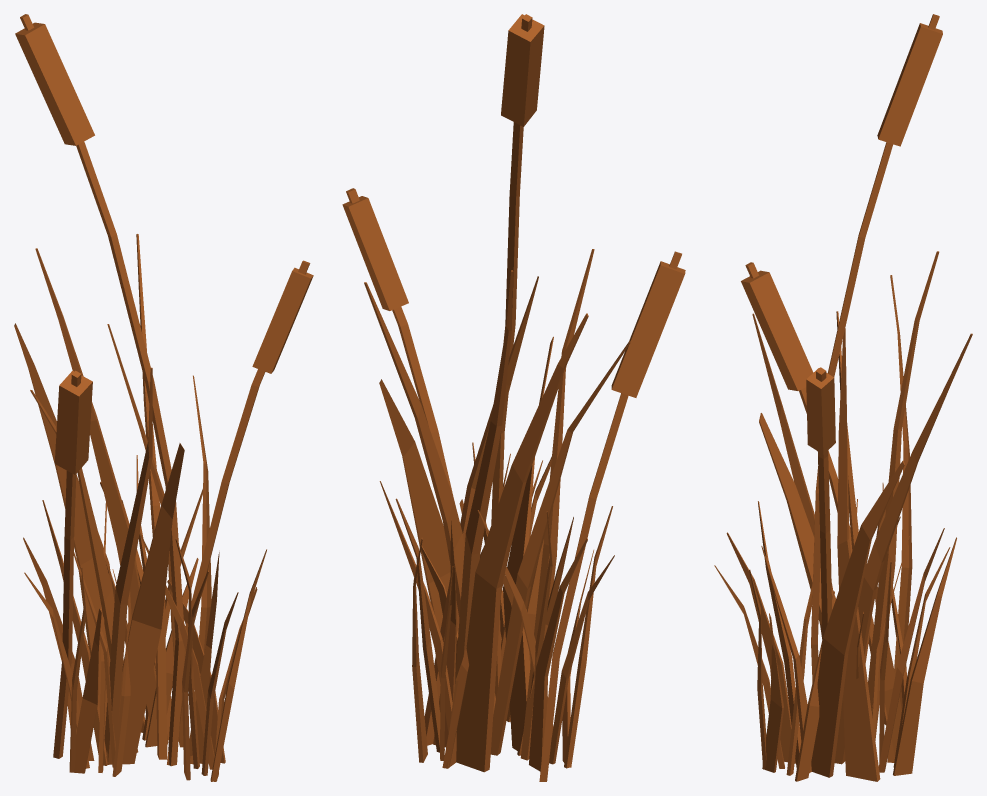
Rendered from grass1.fbx.
The picture shows the model from 3 angles, left to right: view 1: azimuth 30°, elevation 25°; view 2: azimuth 150°, elevation 25°; view 3: azimuth 270°, elevation 25°; orthographic projection. The views are drawn at different scales.
Parts seen in each view (by area): view 1: Grass3; view 2: Grass3; view 3: Grass3.
Boxes of the visible parts, <box> form: Grass3: <box>14,14,313,781</box>; Grass3: <box>342,14,685,781</box>; Grass3: <box>714,14,972,781</box>.
Bounding box in the file's own units: 126 × 305 × 101.
